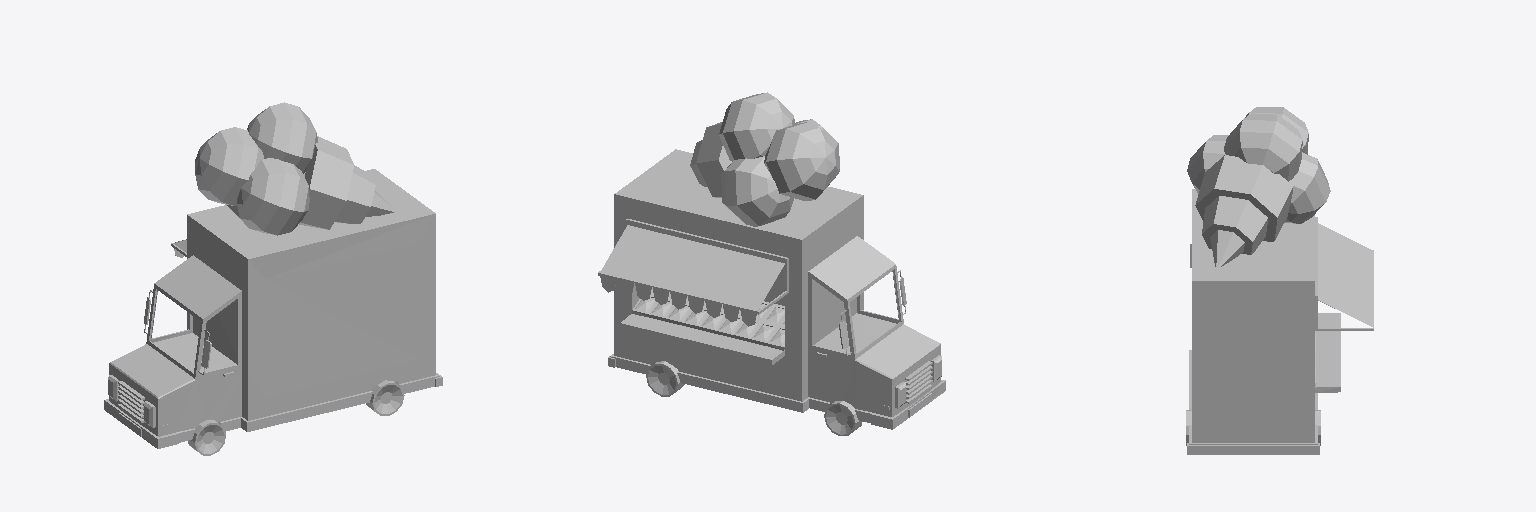
Rendered from Truck.obj.
3 renders of one model, left to right at view 1: azimuth 30°, elevation 25°; view 2: azimuth 150°, elevation 25°; view 3: azimuth 270°, elevation 25°, orthographic.
Visible parts, largest first — view 1: Cube.008, Cone.001, Cylinder.001, Cylinder.002, Cube.009; view 2: Cube.008, Cone.001, Cube.011, Cube.013, Cube.012, Cylinder.001, Cylinder.002, Cube.009; view 3: Cube.008, Cone.001, Cube.011, Cube.013.
Part boxes in pixels (bbox=[...]): Cube.008: bbox=[104, 169, 442, 448]; Cone.001: bbox=[195, 102, 396, 235]; Cylinder.001: bbox=[188, 420, 225, 455]; Cylinder.002: bbox=[366, 380, 404, 415]; Cube.009: bbox=[118, 381, 144, 422]; Cube.008: bbox=[608, 149, 945, 429]; Cone.001: bbox=[690, 92, 839, 226]; Cube.011: bbox=[600, 225, 784, 326]; Cube.013: bbox=[620, 287, 784, 376]; Cube.012: bbox=[598, 219, 788, 314]; Cylinder.001: bbox=[824, 401, 862, 435]; Cylinder.002: bbox=[646, 361, 684, 396]; Cube.009: bbox=[905, 361, 932, 403]; Cube.008: bbox=[1187, 189, 1319, 454]; Cone.001: bbox=[1187, 107, 1330, 267]; Cube.011: bbox=[1318, 223, 1373, 327]; Cube.013: bbox=[1315, 313, 1340, 392].
Bounding box in the file's own units: 2.35 × 2.37 × 1.36.